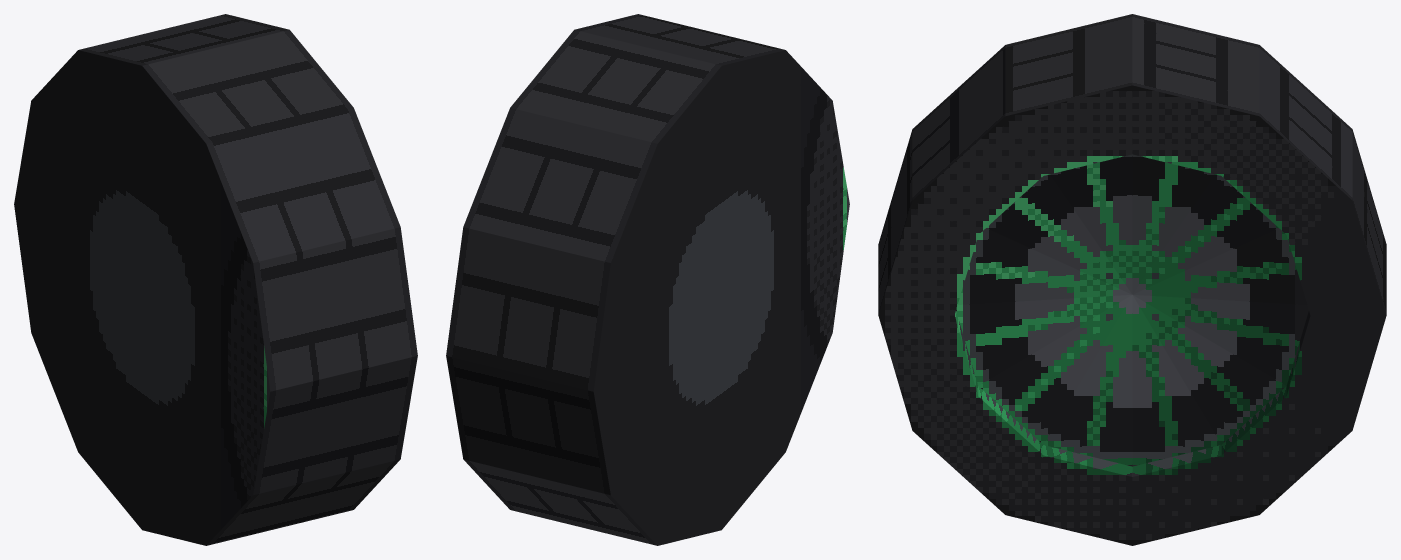
Rendered from wheel_rally.glb.
The picture shows the model from 3 angles, left to right: view 1: azimuth 30°, elevation 25°; view 2: azimuth 150°, elevation 25°; view 3: azimuth 270°, elevation 25°; orthographic projection.
Parts seen in each view (by area): view 1: wheel_rally; view 2: wheel_rally; view 3: wheel_rally.
Part boxes in pixels (<box>): wheel_rally: <box>14,14,417,545</box>; wheel_rally: <box>446,14,849,545</box>; wheel_rally: <box>878,14,1386,545</box>.
Size of the model in its own units: 0.205 by 0.6163 by 0.6163.
Materials: 1 (1 with a texture image).
